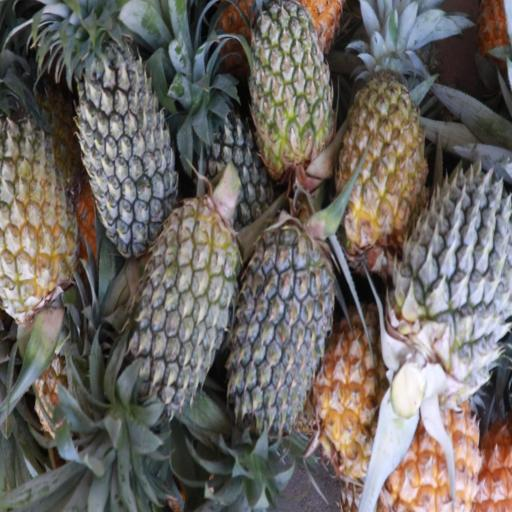------------------------------: (250, 2, 333, 178)
Pineapple - v8 v1: (340, 55, 424, 249), (0, 113, 75, 311), (320, 300, 398, 469), (386, 379, 481, 512)
